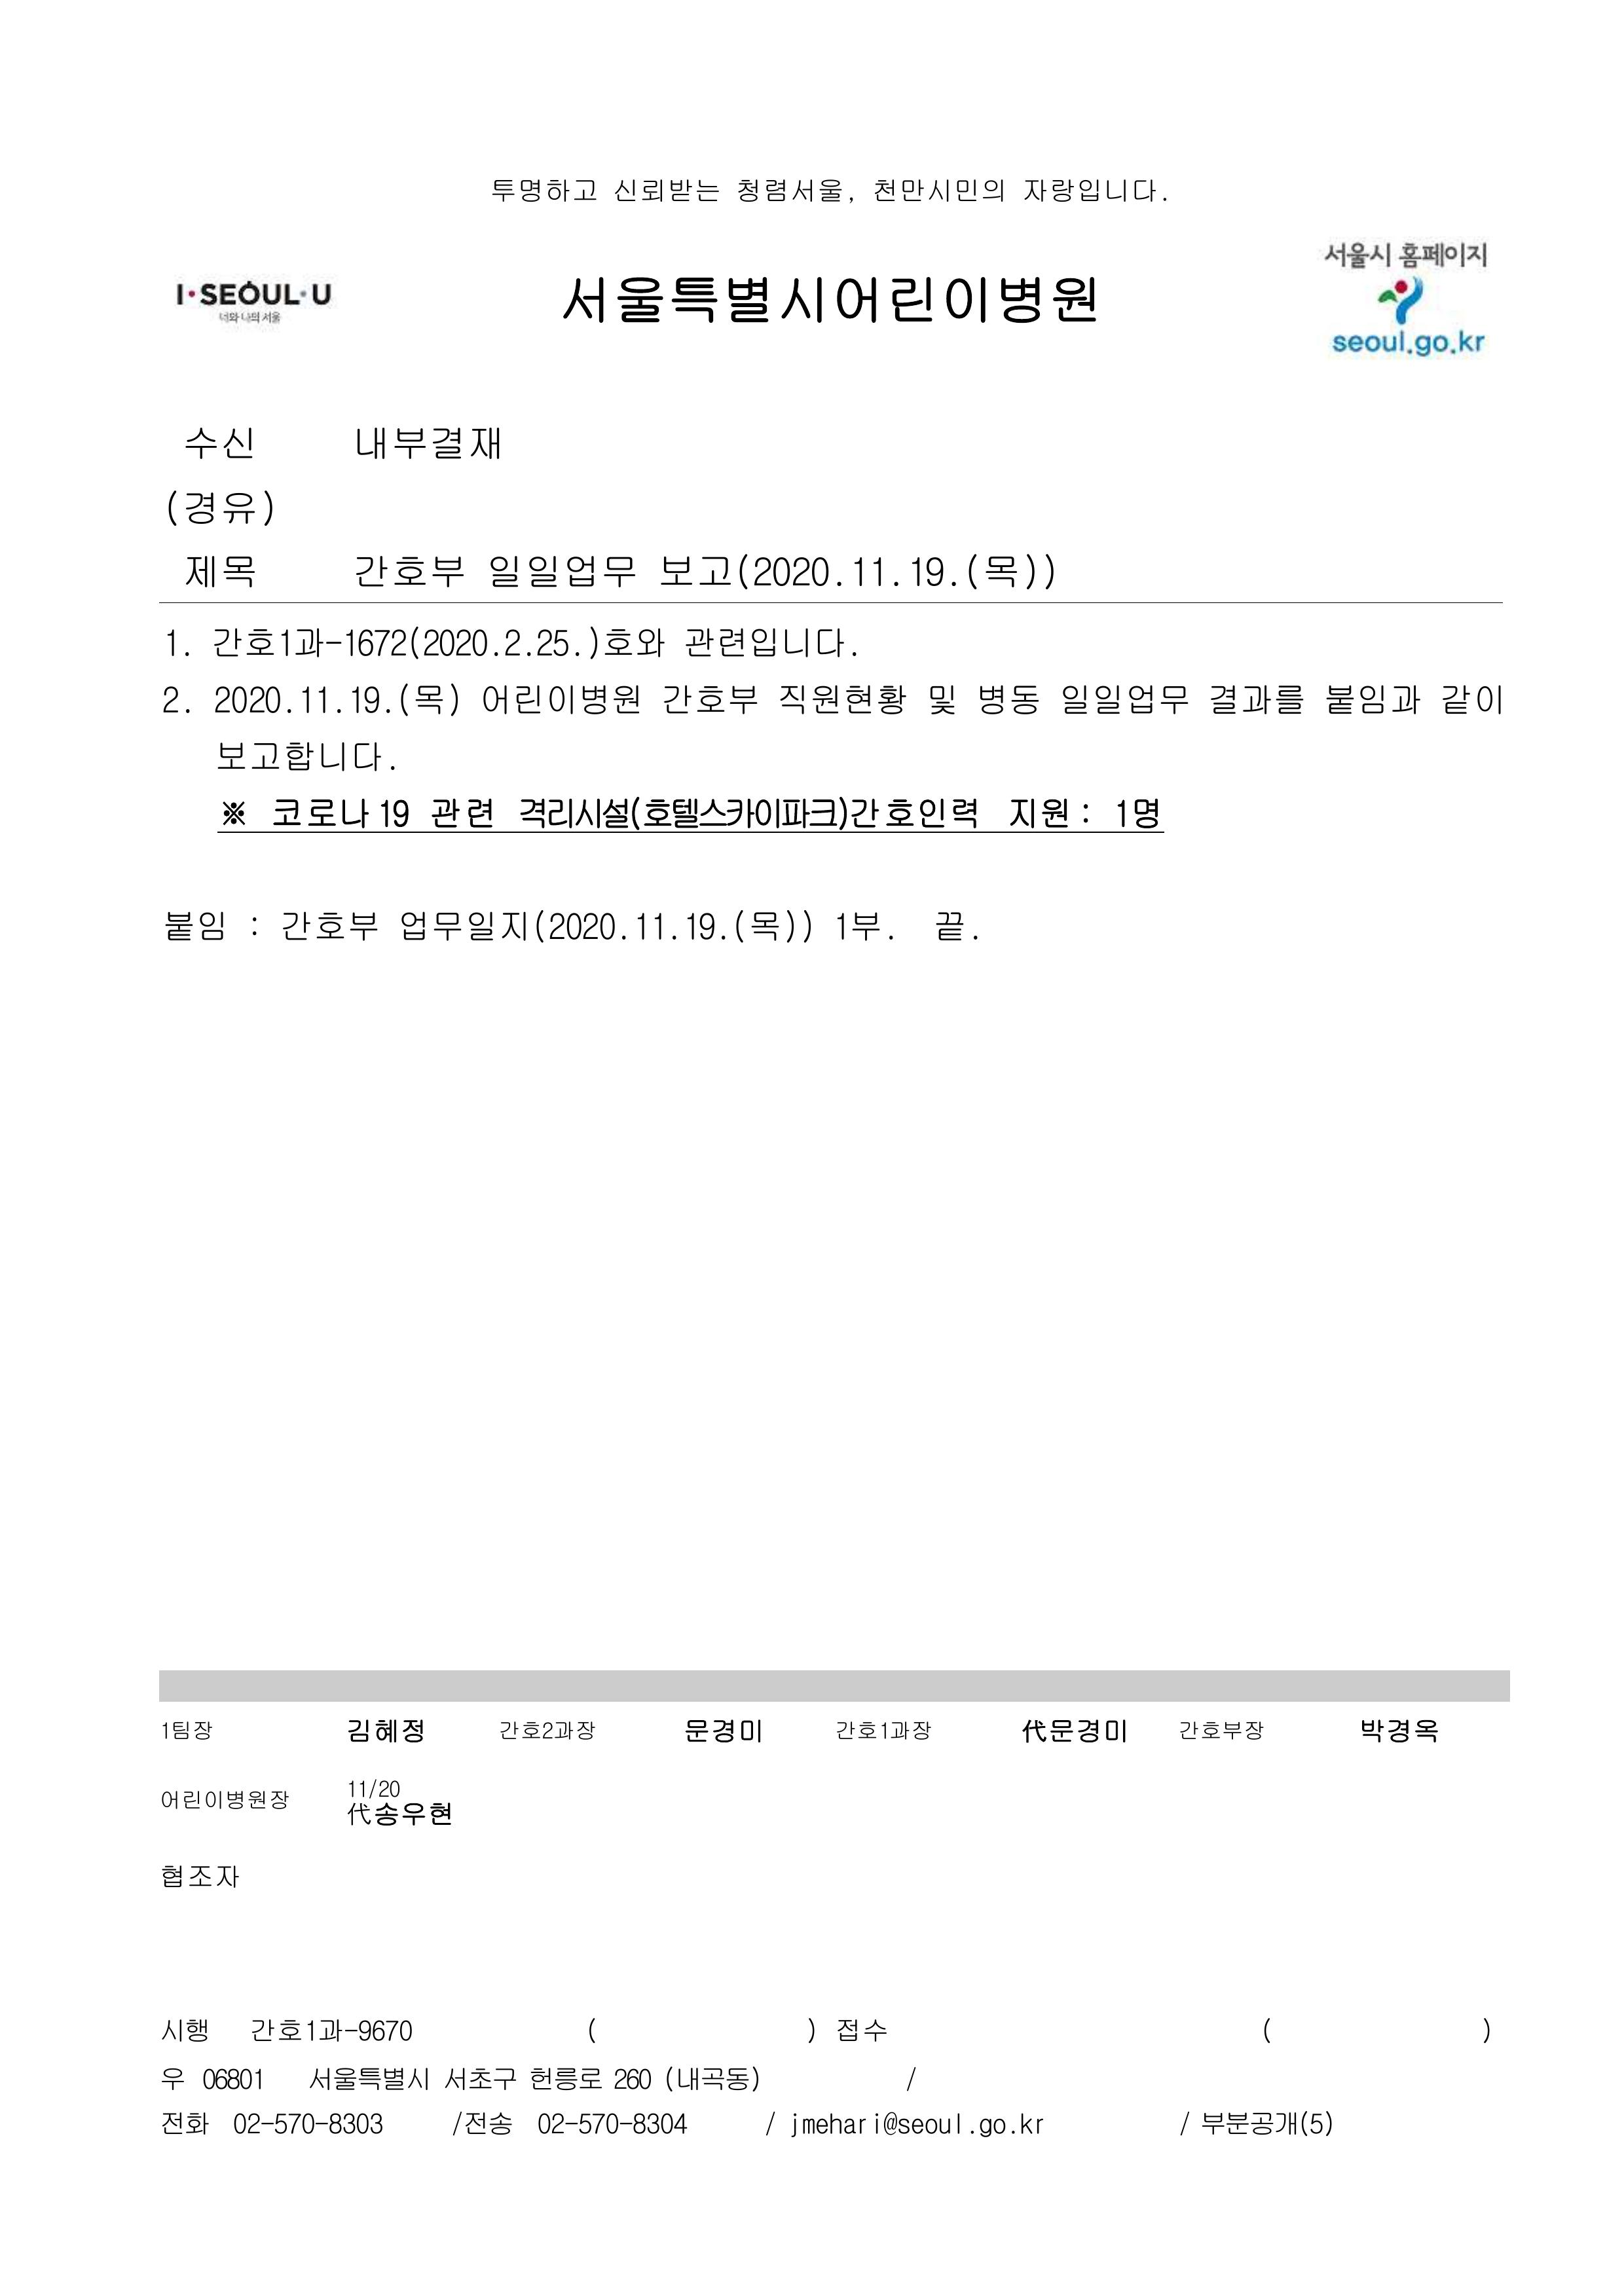t: (559, 268, 1097, 329), (516, 792, 979, 832), (397, 907, 623, 946), (272, 623, 494, 663), (656, 552, 846, 591), (631, 907, 817, 946), (215, 735, 390, 774), (904, 548, 1058, 591), (351, 423, 506, 466), (487, 552, 638, 595), (480, 681, 642, 720), (681, 623, 853, 659), (161, 487, 280, 534), (168, 276, 333, 308), (1058, 681, 1190, 720), (1018, 172, 1162, 208), (774, 681, 907, 717), (351, 552, 466, 591), (868, 175, 1007, 208), (1329, 333, 1488, 361), (1198, 2108, 1334, 2140), (731, 172, 849, 208), (304, 2062, 434, 2094), (268, 792, 373, 832), (610, 172, 720, 208), (1323, 681, 1424, 720), (232, 2112, 387, 2137), (280, 907, 380, 946), (538, 2112, 692, 2137), (157, 1786, 290, 1814), (1004, 792, 1097, 832), (1018, 1714, 1130, 1746), (659, 681, 760, 717), (1205, 681, 1305, 717), (487, 175, 599, 208), (344, 1796, 452, 1829), (1395, 236, 1488, 272), (659, 2062, 764, 2094), (212, 681, 297, 717), (498, 623, 577, 659), (681, 1714, 767, 1746), (183, 552, 254, 591), (157, 1861, 244, 1893), (304, 2019, 416, 2044), (1319, 236, 1395, 272), (344, 1714, 426, 1746), (1356, 1714, 1438, 1746), (186, 423, 254, 462), (426, 792, 494, 832), (394, 681, 462, 717), (972, 681, 1040, 717), (1438, 681, 1506, 717), (441, 2062, 516, 2094), (527, 2062, 602, 2094), (836, 1717, 932, 1742), (846, 552, 907, 591), (212, 623, 276, 659), (602, 623, 667, 659), (788, 2112, 868, 2140), (164, 907, 226, 943), (882, 2112, 968, 2137), (197, 2062, 265, 2094), (498, 1721, 599, 1742), (832, 907, 889, 943), (294, 681, 348, 717), (1108, 796, 1162, 832), (1179, 1721, 1266, 1742), (448, 2108, 513, 2137), (932, 907, 972, 946), (157, 2015, 212, 2044), (344, 681, 387, 717), (832, 2015, 885, 2044), (610, 2062, 656, 2094), (925, 681, 961, 720), (373, 796, 412, 832), (251, 2019, 304, 2044), (161, 2112, 212, 2137), (348, 1778, 405, 1800), (161, 1721, 215, 1742), (979, 2116, 1011, 2140), (164, 685, 186, 717), (1018, 2116, 1047, 2137), (226, 799, 247, 828), (168, 631, 186, 659)
